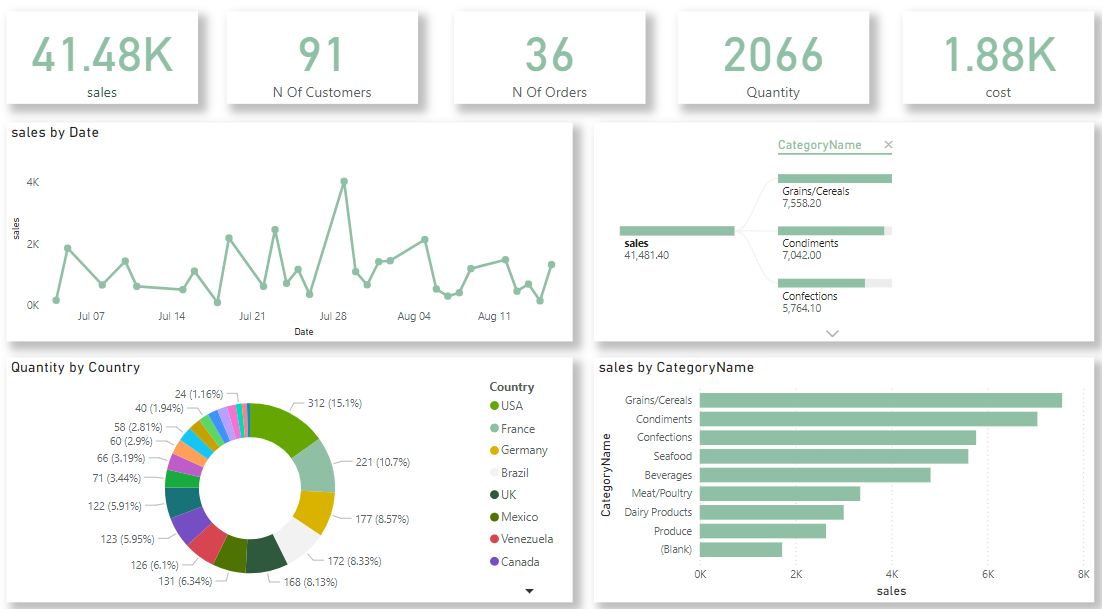

Layout of this report page (visuals, bound fields, positions):
{"tool":"powerbi","page":{"name":"Page 1","canvas":[1280,720],"ordinal":0},"visuals":[{"type":"card","fields":{"Values":["Key Measure.sales"]},"box":[20,24.2,218.1,105.5],"z":0},{"type":"card","fields":{"Values":["Key Measure.N Of Customers"]},"box":[270.8,24.2,218.1,105.5],"z":1},{"type":"card","fields":{"Values":["Key Measure.N Of Orders"]},"box":[530.2,24.2,218.1,105.5],"z":2},{"type":"card","fields":{"Values":["Key Measure.Quantity"]},"box":[785.4,24.2,218.1,105.5],"z":3},{"type":"lineChart","fields":{"Y":["Key Measure.sales"],"Category":["calender.Date.Variation.Date Hierarchy.Year"]},"box":[20,151.1,645.7,249.4],"z":4},{"type":"donutChart","fields":{"Y":["Key Measure.Quantity"],"Category":["OrdersDetails.Country"]},"box":[20,419.1,645.7,279.4],"z":5},{"type":"card","fields":{"Values":["Key Measure.cost"]},"box":[1042,24.2,218.1,105.5],"z":6},{"type":"decompositionTreeVisual","fields":{"ExplainBy":["Dim_Categories.CategoryName"],"Analyze":["Key Measure.sales"]},"box":[689.9,151.1,570.2,249.4],"z":7},{"type":"clusteredBarChart","fields":{"Y":["Key Measure.sales"],"Category":["Dim_Categories.CategoryName"]},"box":[689.9,419.1,570.2,279.4],"z":8}]}

Visuals, with their boxes in screenshot pixels (x1, y1, x2, y2), scaled from the page's 1280x720 canvas onto the 1102x609 screenshot:
card - Key Measure.sales: pyautogui.locateOnScreen(17, 20, 205, 110)
card - Key Measure.N Of Customers: pyautogui.locateOnScreen(233, 20, 421, 110)
card - Key Measure.N Of Orders: pyautogui.locateOnScreen(456, 20, 644, 110)
card - Key Measure.Quantity: pyautogui.locateOnScreen(676, 20, 864, 110)
lineChart - Key Measure.sales x calender.Date.Variation.Date Hierarchy.Year: pyautogui.locateOnScreen(17, 128, 573, 339)
donutChart - Key Measure.Quantity x OrdersDetails.Country: pyautogui.locateOnScreen(17, 354, 573, 591)
card - Key Measure.cost: pyautogui.locateOnScreen(897, 20, 1085, 110)
decompositionTreeVisual - Dim_Categories.CategoryName x Key Measure.sales: pyautogui.locateOnScreen(594, 128, 1085, 339)
clusteredBarChart - Key Measure.sales x Dim_Categories.CategoryName: pyautogui.locateOnScreen(594, 354, 1085, 591)
